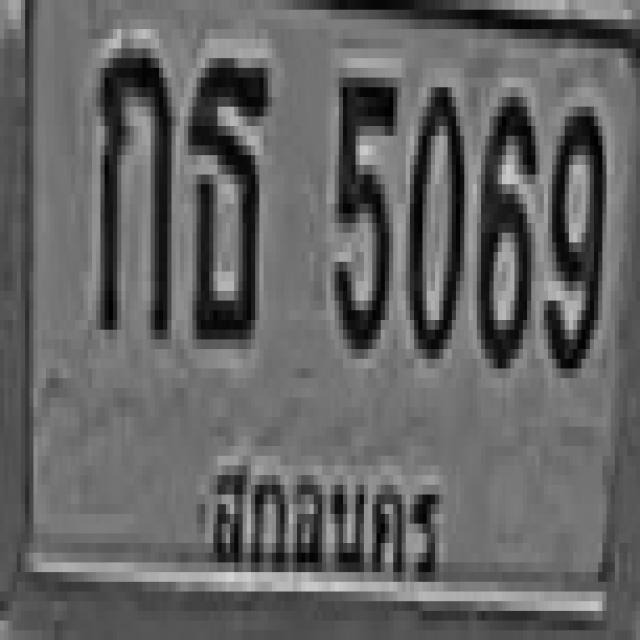0: (406, 78, 460, 349)
10GorGai: (96, 38, 168, 330)
33ThorThong: (184, 48, 268, 340)
5: (331, 73, 393, 344)
6: (473, 87, 531, 359)
9: (542, 97, 600, 368)
SakonNakhon: (204, 432, 447, 602)
